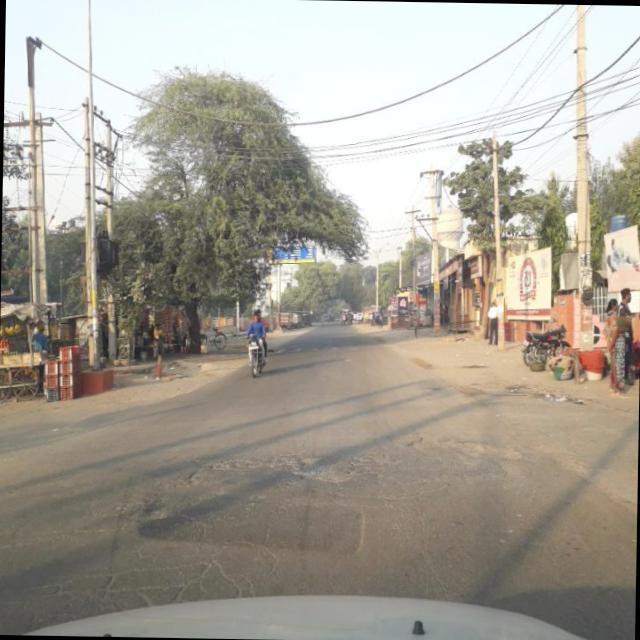crack: (98, 439, 314, 612)
pothole: (92, 422, 547, 529)
